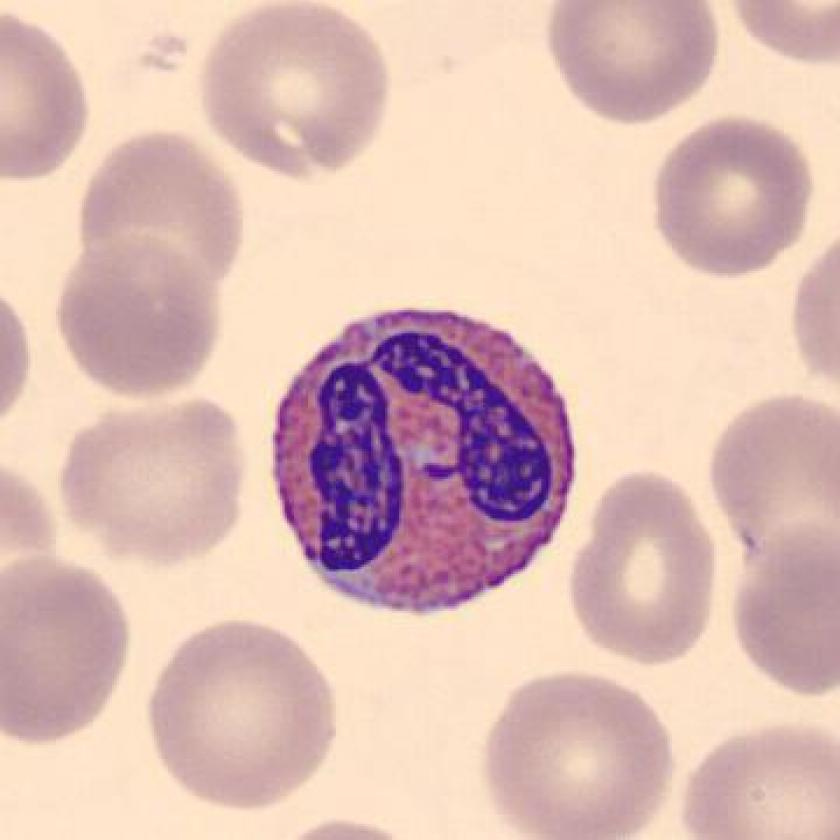eosinophil: (258, 295, 587, 630)
